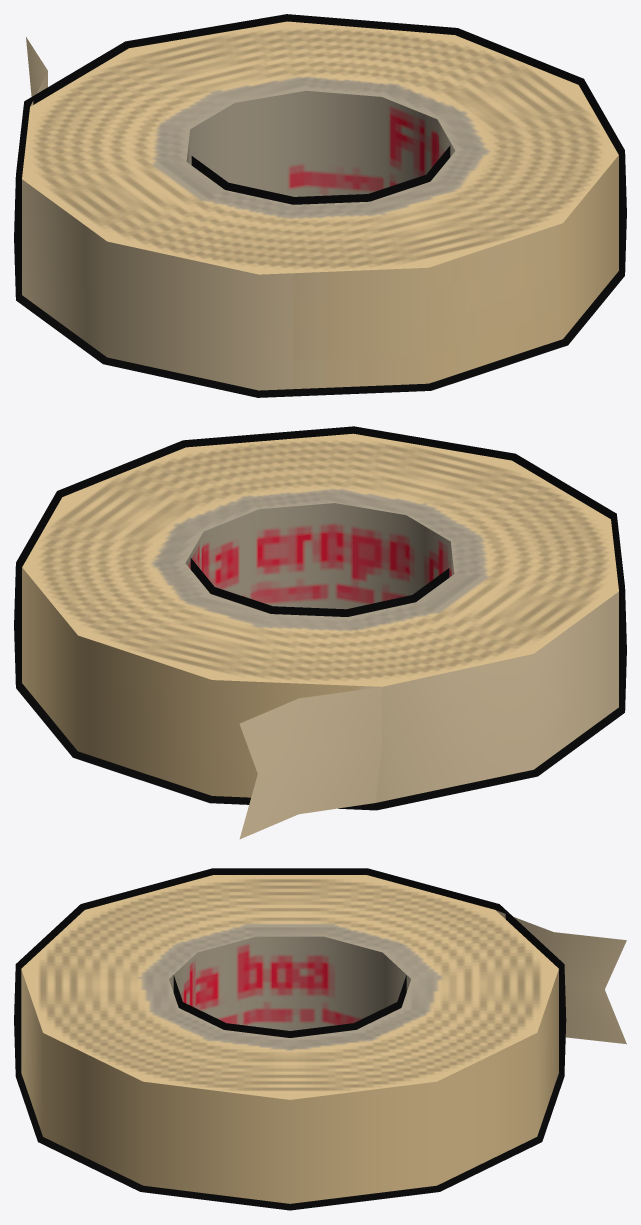
The model's file is Fita Crepe.glb.
The picture shows the model from 3 angles, top to bottom: view 1: azimuth 30°, elevation 25°; view 2: azimuth 150°, elevation 25°; view 3: azimuth 270°, elevation 25°; orthographic projection. The views are drawn at different scales.
Parts seen in each view (by area): view 1: Fita; view 2: Fita; view 3: Fita.
Boxes of the visible parts, left/top/right/bottom form: Fita: left=14, top=14, right=626, bottom=397; Fita: left=14, top=426, right=626, bottom=839; Fita: left=14, top=868, right=626, bottom=1210.
Size of the model in its own units: 1.03 by 0.2437 by 1.16.
2 materials, 1 textured.
